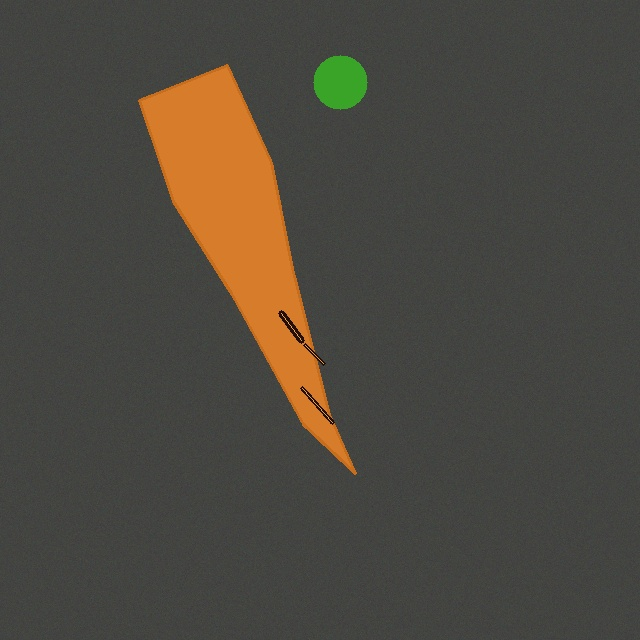Damaged_Carrot: (131, 57, 363, 481)
